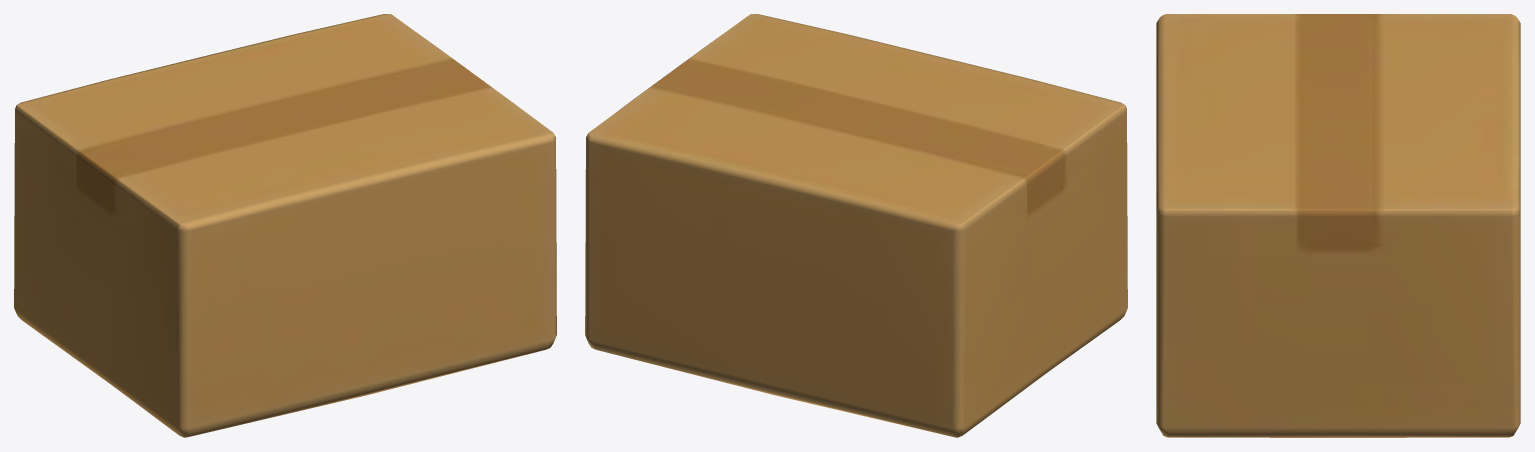
The picture shows the model from 3 angles, left to right: view 1: azimuth 30°, elevation 25°; view 2: azimuth 150°, elevation 25°; view 3: azimuth 270°, elevation 25°; orthographic projection. The views are drawn at different scales.
Bounding box in the file's own units: 9 × 4.95 × 7.
1 material, 1 textured.
